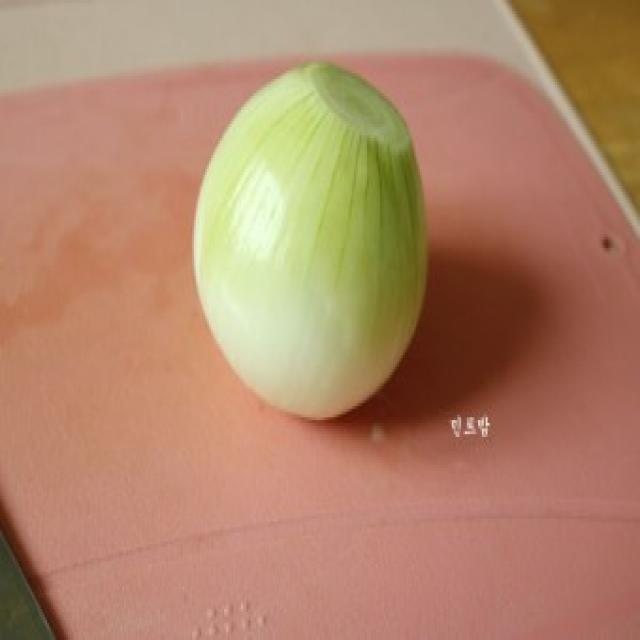onion: (176, 32, 435, 448)
